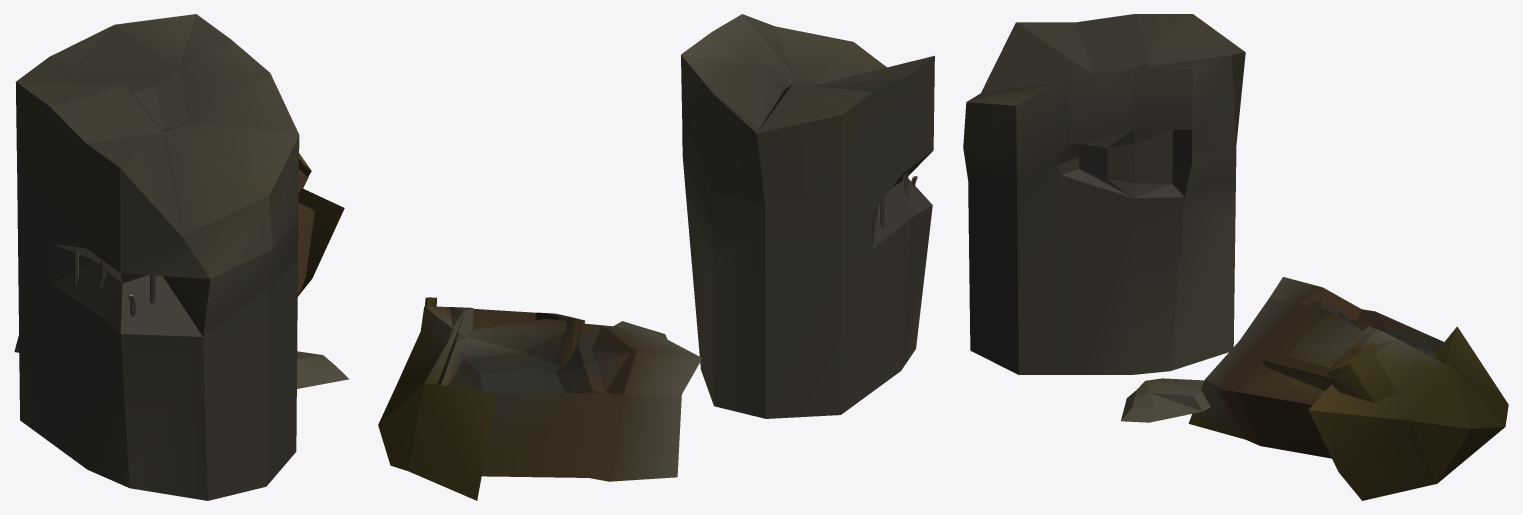
Rendered from TorrearruinadaB.fbx.
The picture shows the model from 3 angles, left to right: view 1: azimuth 30°, elevation 25°; view 2: azimuth 150°, elevation 25°; view 3: azimuth 270°, elevation 25°; orthographic projection. The views are drawn at different scales.
Parts seen in each view (by area): view 1: LOD_0; view 2: LOD_0; view 3: LOD_0.
Part boxes in pixels (<box>): LOD_0: <box>14,14,349,500</box>; LOD_0: <box>378,14,934,500</box>; LOD_0: <box>963,14,1508,500</box>.
Size of what is drawn, in the model's own units: 861 by 864 by 1207.
